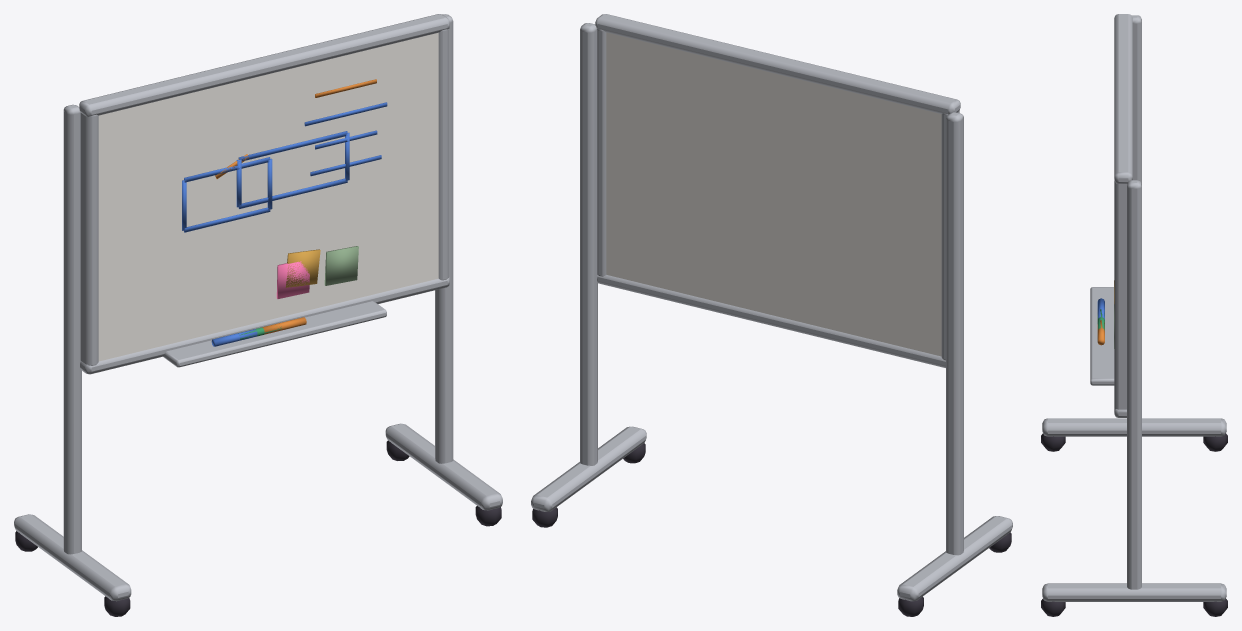
The model's file is whiteboard_wall_l1.glb.
3 views of the same model, side by side, from view 1: azimuth 30°, elevation 25°; view 2: azimuth 150°, elevation 25°; view 3: azimuth 270°, elevation 25° (orthographic). The views are drawn at different scales.
Visible parts, largest first — view 1: whiteboard_wall_l1; view 2: whiteboard_wall_l1; view 3: whiteboard_wall_l1.
Part boxes in pixels (box(x1,y1,x2,y2)): whiteboard_wall_l1: box(14, 14, 502, 616); whiteboard_wall_l1: box(531, 14, 1012, 616); whiteboard_wall_l1: box(1041, 14, 1227, 616).
Bounding box in the file's own units: 1.13 × 1.32 × 0.5066.
